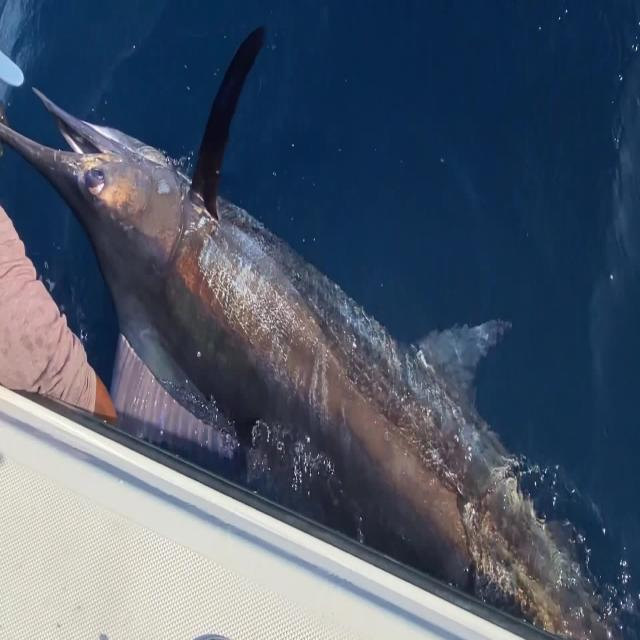Liberacion segura: (0, 23, 624, 640)
